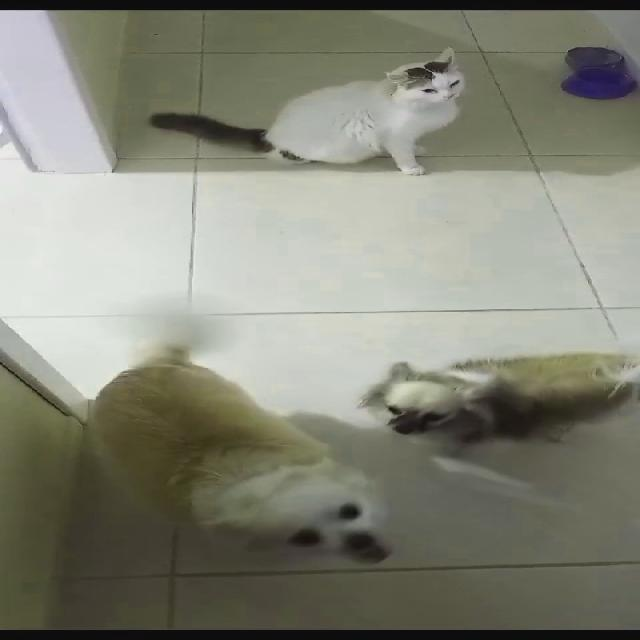Pedrita: (354, 321, 638, 460)
Simba: (212, 32, 502, 204)
Theo: (98, 328, 412, 582)
